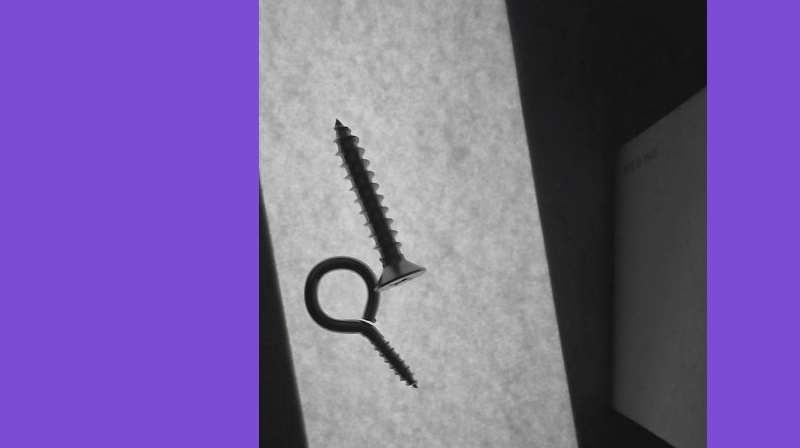O001: (303, 257, 419, 389)
S001: (331, 111, 426, 297)
